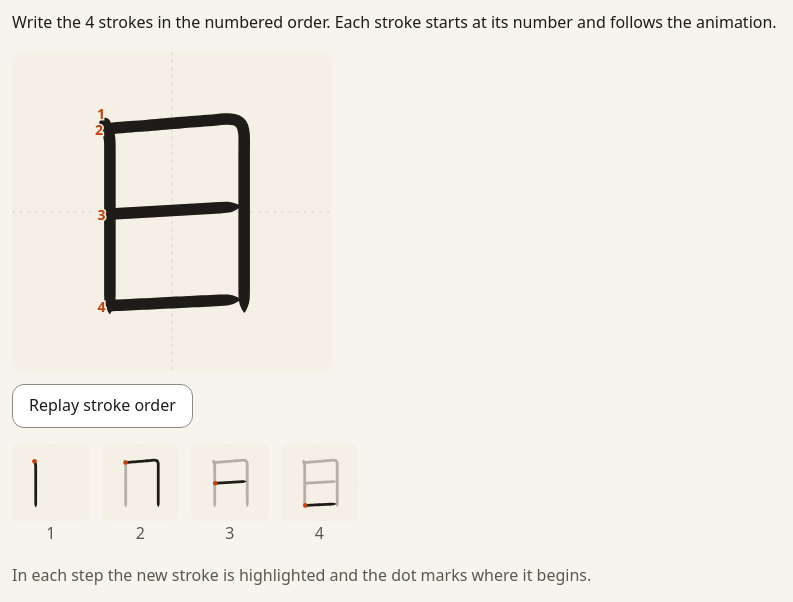
Test case: StrokeOrder › starts fully drawn when motion is reduced and animates only on request
Click the button "Replay stroke order": (102, 406) [12,384,193,428]
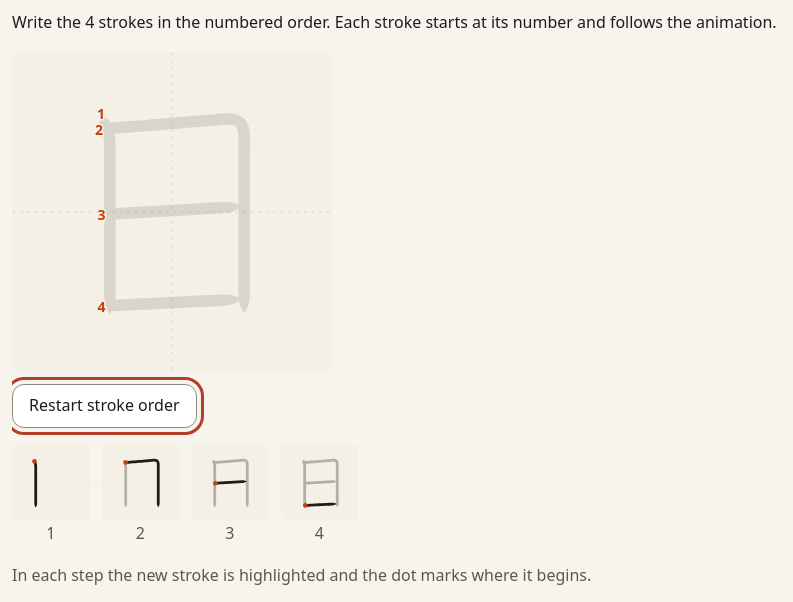
Expected: the button "Restart stroke order" is shown, [12,384,196,428]
